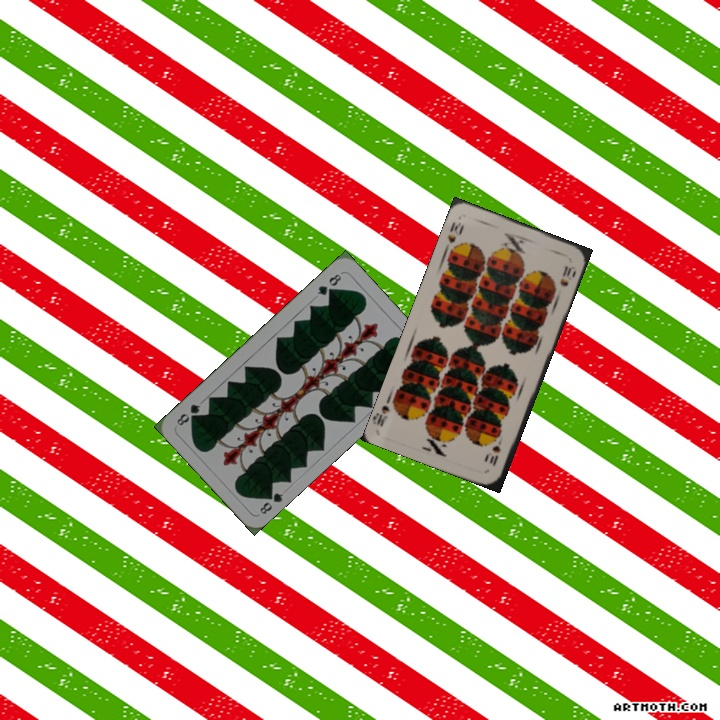G8: (313, 269, 345, 298), (256, 487, 286, 517)
S10: (441, 218, 467, 253), (485, 432, 506, 469)
